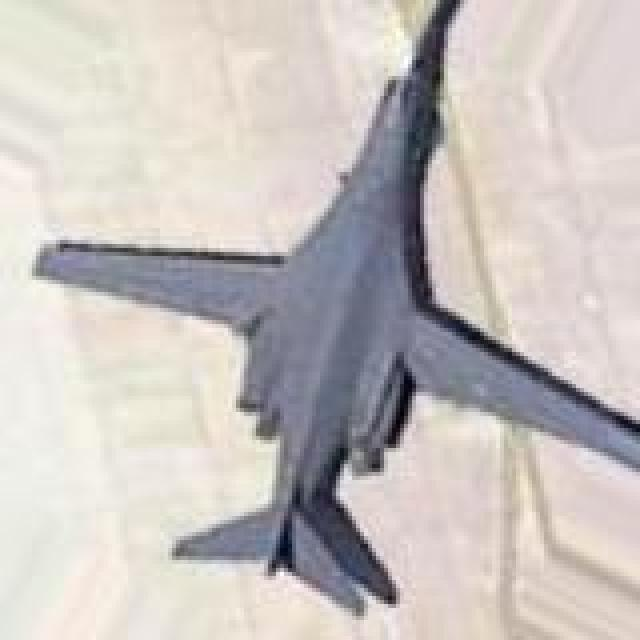B-1_TopDown: (28, 0, 636, 616)
